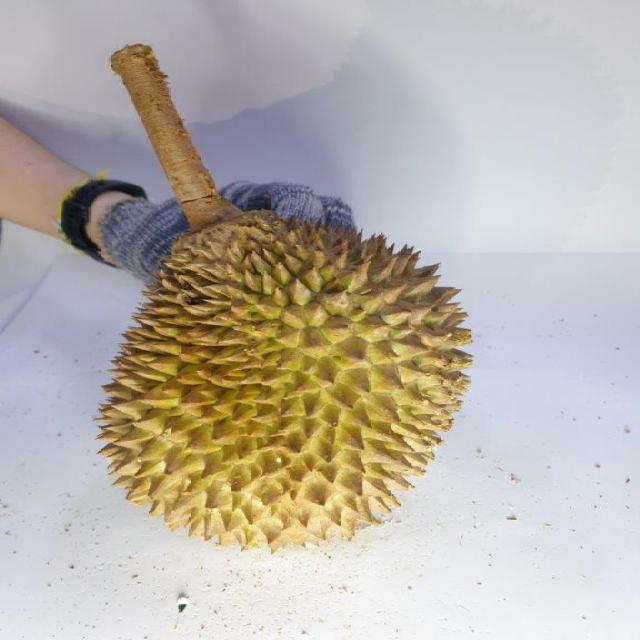mature: (99, 214, 470, 554)
